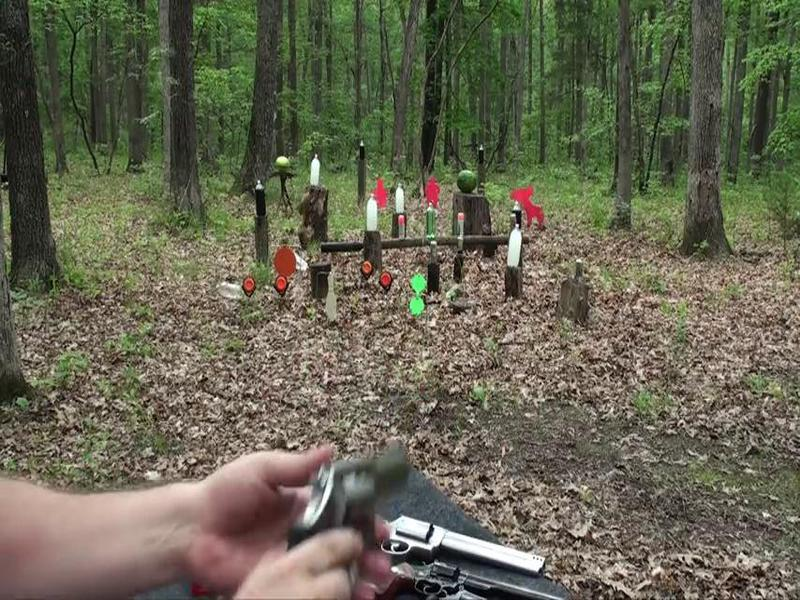Revolver: (263, 445, 430, 569)
